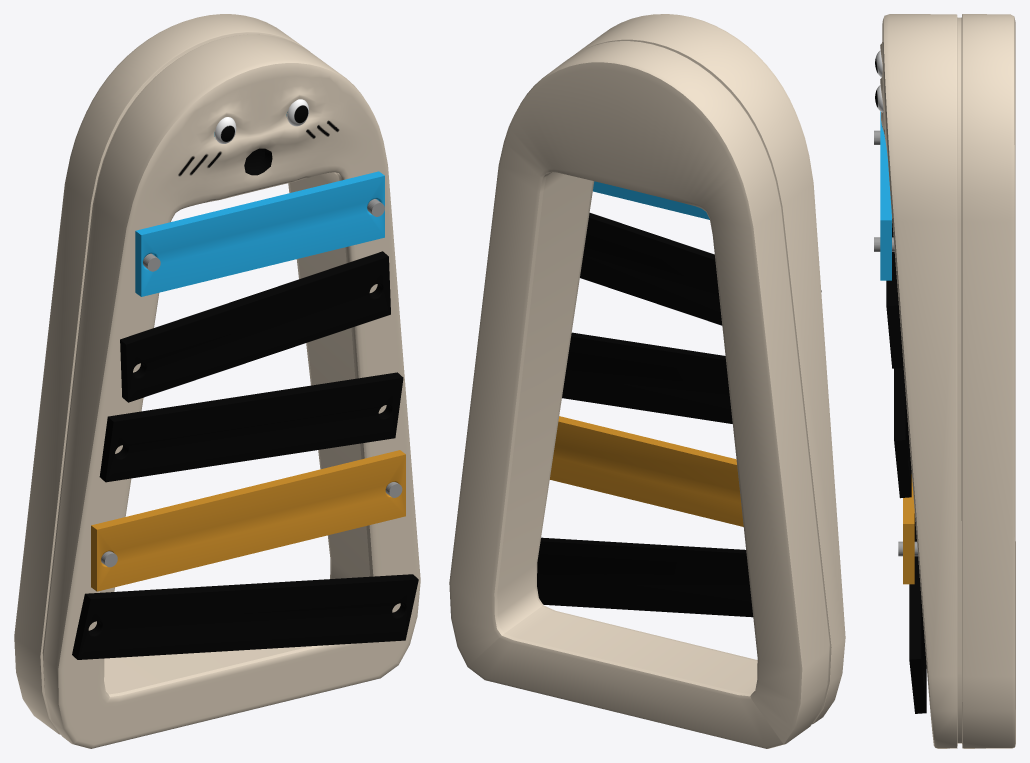
The model's file is xylophone_2.dae.
3 renders of one model, left to right at view 1: azimuth 30°, elevation 25°; view 2: azimuth 150°, elevation 25°; view 3: azimuth 270°, elevation 25°, orthographic. The views are drawn at different scales.
Visible parts, largest first — view 1: PlaneFBXASC046002, CubeFBXASC046023, CubeFBXASC046025, CubeFBXASC046026, CubeFBXASC046024, CubeFBXASC046027; view 2: PlaneFBXASC046002, CubeFBXASC046023, CubeFBXASC046025, CubeFBXASC046026, CubeFBXASC046024, CubeFBXASC046027; view 3: PlaneFBXASC046002, CubeFBXASC046023, CubeFBXASC046026, CubeFBXASC046027, CubeFBXASC046024, CubeFBXASC046025.
Boxes of the visible parts, x1,y1,x2,y2 form: PlaneFBXASC046002: (14,14,420,748); CubeFBXASC046023: (72,574,418,659); CubeFBXASC046025: (91,450,405,591); CubeFBXASC046026: (99,372,403,482); CubeFBXASC046024: (120,251,390,402); CubeFBXASC046027: (135,171,384,296); PlaneFBXASC046002: (449,14,845,748); CubeFBXASC046023: (537,537,753,617); CubeFBXASC046025: (549,416,743,526); CubeFBXASC046026: (562,332,732,423); CubeFBXASC046024: (580,213,821,325); CubeFBXASC046027: (593,181,709,219); PlaneFBXASC046002: (875,14,1015,748); CubeFBXASC046023: (909,513,926,713); CubeFBXASC046026: (894,368,911,498); CubeFBXASC046027: (880,111,891,280); CubeFBXASC046024: (886,219,903,368); CubeFBXASC046025: (903,474,914,584).
Size of the model in its own units: 283 by 497 by 97.8.
Materials: 2 (1 with a texture image).
